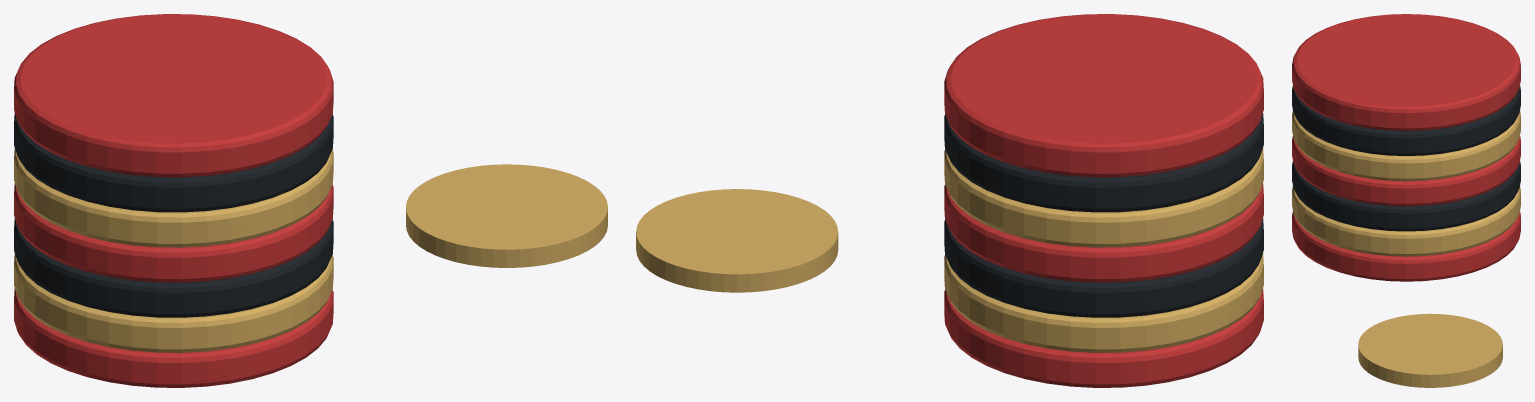
File: poker-props.glb
3 views of the same model, side by side, from view 1: azimuth 30°, elevation 25°; view 2: azimuth 150°, elevation 25°; view 3: azimuth 270°, elevation 25° (orthographic). The views are drawn at different scales.
Visible parts, largest first — view 1: PokerChip_6, DealerButton, PokerChip_1, PokerChip_4, PokerChip_2, PokerChip_5, PokerChip_3, PokerChip_0; view 2: PokerChip_6, DealerButton, PokerChip_4, PokerChip_1, PokerChip_3, PokerChip_5, PokerChip_2, PokerChip_0; view 3: PokerChip_6, DealerButton, PokerChip_0, PokerChip_4, PokerChip_3, PokerChip_5, PokerChip_1, PokerChip_2.
Part boxes in pixels (x1,y1,x2,y2): PokerChip_6: (14,14,333,177); DealerButton: (406,164,607,267); PokerChip_1: (14,253,333,352); PokerChip_4: (14,148,333,247); PokerChip_2: (14,218,333,317); PokerChip_5: (14,113,333,212); PokerChip_3: (14,183,333,282); PokerChip_0: (14,288,333,387); PokerChip_6: (944,14,1263,177); DealerButton: (636,189,838,292); PokerChip_4: (944,148,1263,247); PokerChip_1: (944,253,1263,352); PokerChip_3: (944,183,1263,282); PokerChip_5: (944,113,1263,212); PokerChip_2: (944,218,1263,317); PokerChip_0: (944,289,1263,387); PokerChip_6: (1292,14,1520,130); DealerButton: (1358,313,1502,387); PokerChip_0: (1292,211,1520,281); PokerChip_4: (1292,111,1520,181); PokerChip_3: (1292,136,1520,206); PokerChip_5: (1292,86,1520,155); PokerChip_1: (1292,186,1520,256); PokerChip_2: (1292,161,1520,231).
Bounding box in the file's own units: 0.395 × 0.16 × 0.19.
